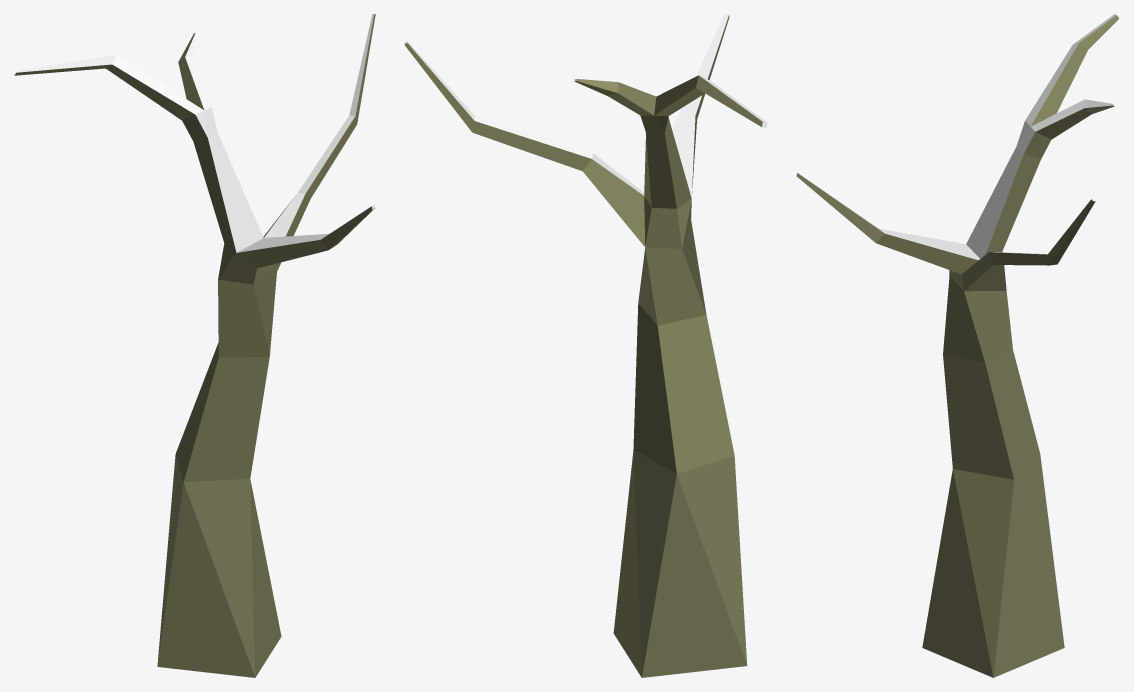
The model's file is Dead_Tree_m_Snow_BT_07.fbx.
3 renders of one model, left to right at view 1: azimuth 30°, elevation 25°; view 2: azimuth 150°, elevation 25°; view 3: azimuth 270°, elevation 25°, orthographic. The views are drawn at different scales.
Parts seen in each view (by area): view 1: Dead_Tree_m_Snow_BT_07; view 2: Dead_Tree_m_Snow_BT_07; view 3: Dead_Tree_m_Snow_BT_07.
Part boxes in pixels (x1=…): Dead_Tree_m_Snow_BT_07: x1=14, y1=14, x2=375, y2=677; Dead_Tree_m_Snow_BT_07: x1=404, y1=14, x2=767, y2=677; Dead_Tree_m_Snow_BT_07: x1=796, y1=14, x2=1119, y2=677.
Bounding box in the file's own units: 276 × 437 × 222.
